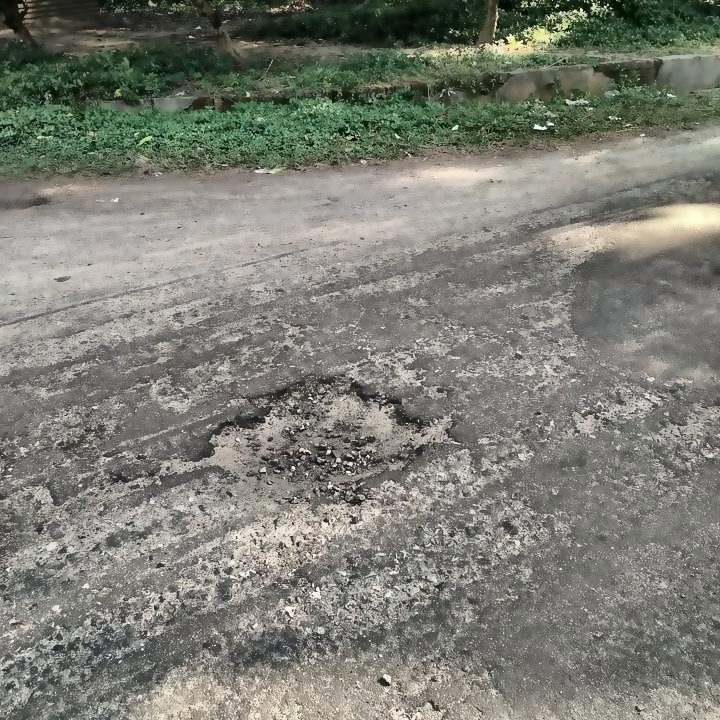pothole: (188, 370, 462, 503)
